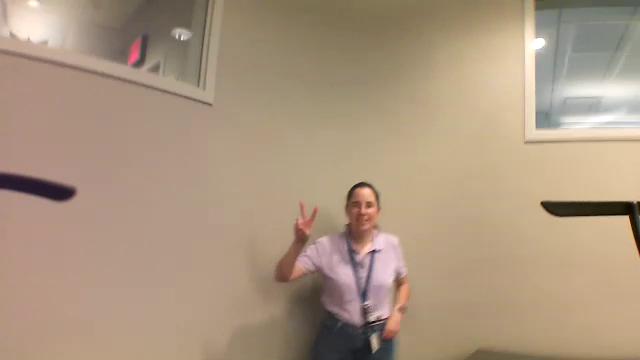peace: (290, 197, 321, 243)
